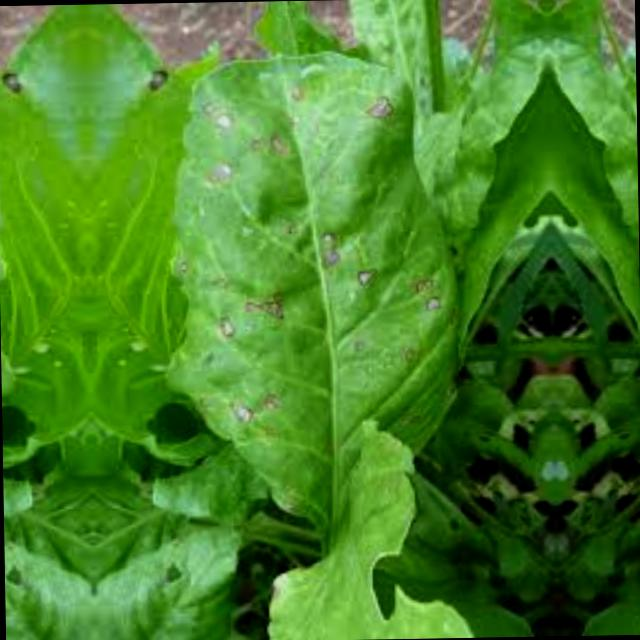Lettuce - Anthracnose: (160, 49, 460, 539), (0, 56, 14, 541)
